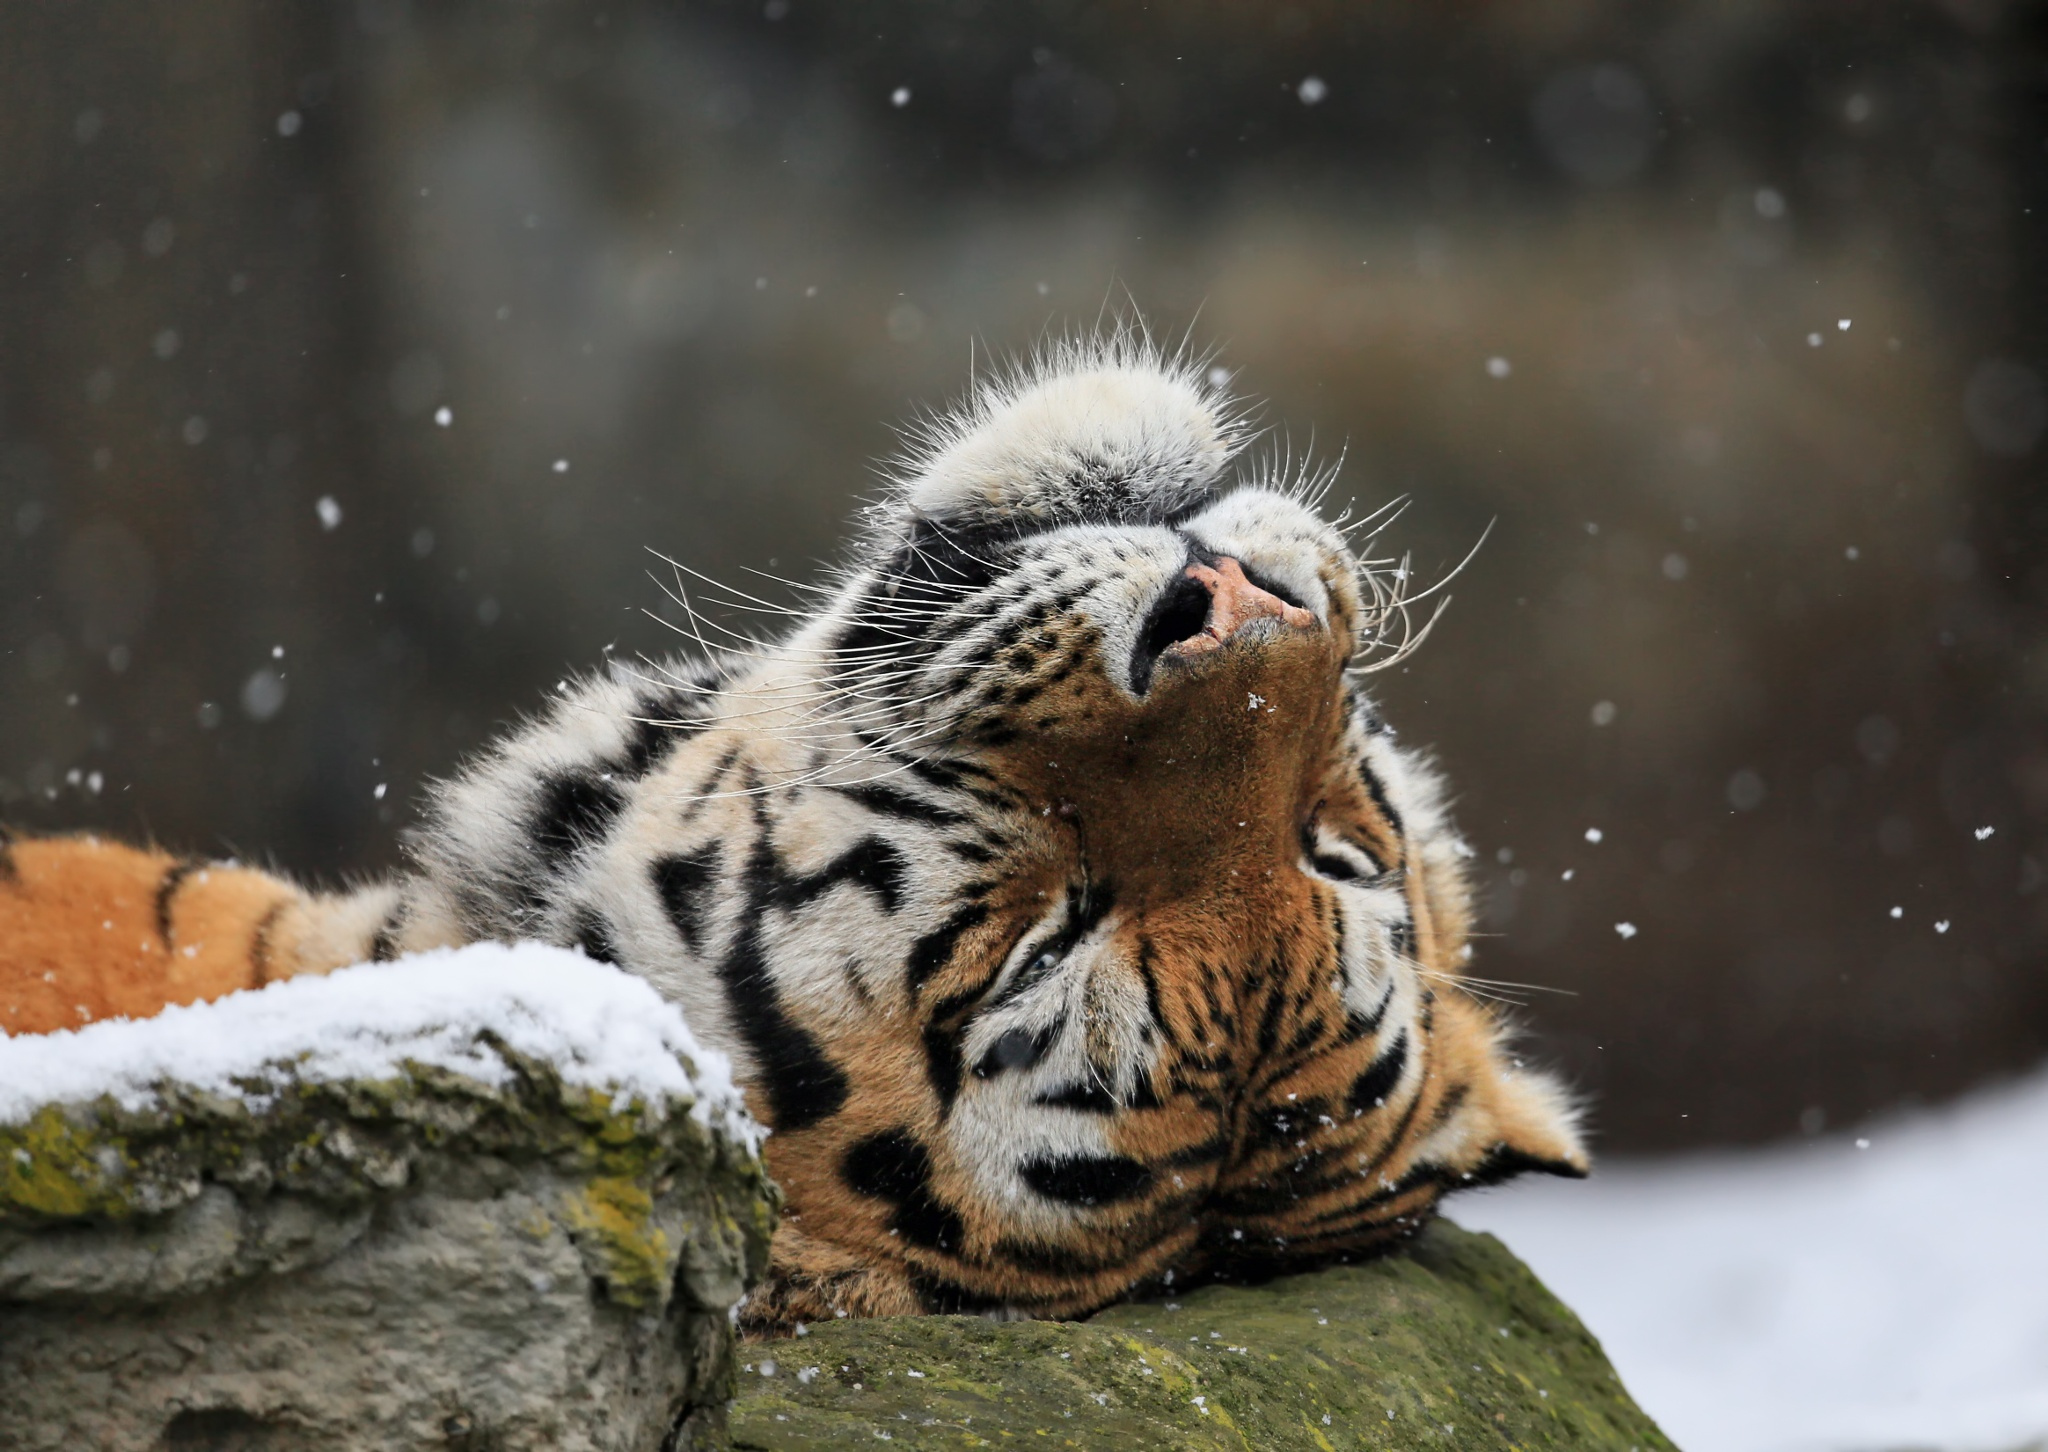tiger: (88, 335, 1701, 1278)
